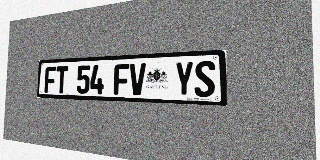4: (90, 65, 104, 94)
5: (77, 65, 90, 94)
F: (114, 64, 129, 95), (44, 66, 56, 93)
S: (194, 60, 215, 97)
T: (55, 66, 68, 93)
V: (129, 63, 146, 95)
Y: (174, 61, 194, 97)
